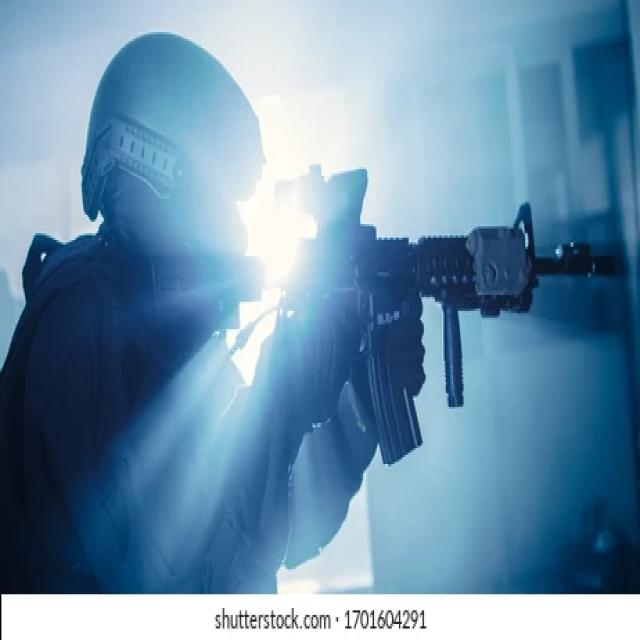soldier: (1, 8, 623, 593)
